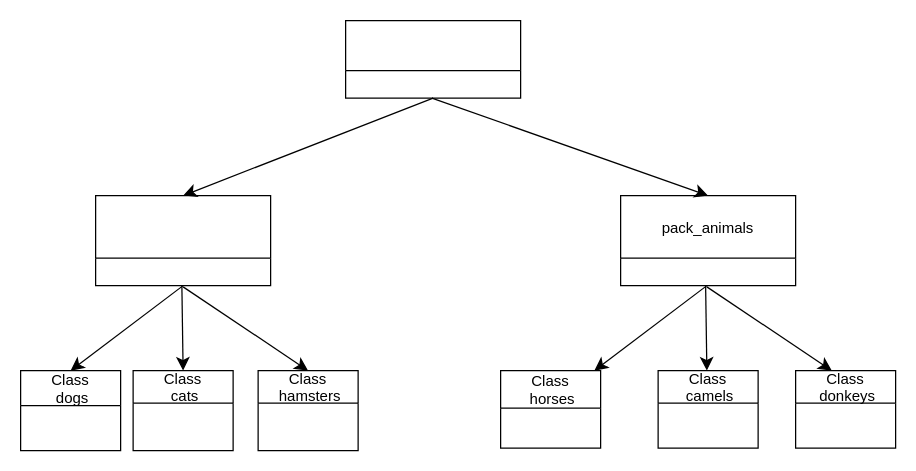
The diagram is 916 pixels wide and 471 high, and some of its shapes have lost their labels. The box of each missing label's shape, as (x1, y1, x2, y2) in pixels:
animal_classes: (344, 19, 521, 98)
pets: (94, 194, 271, 286)
